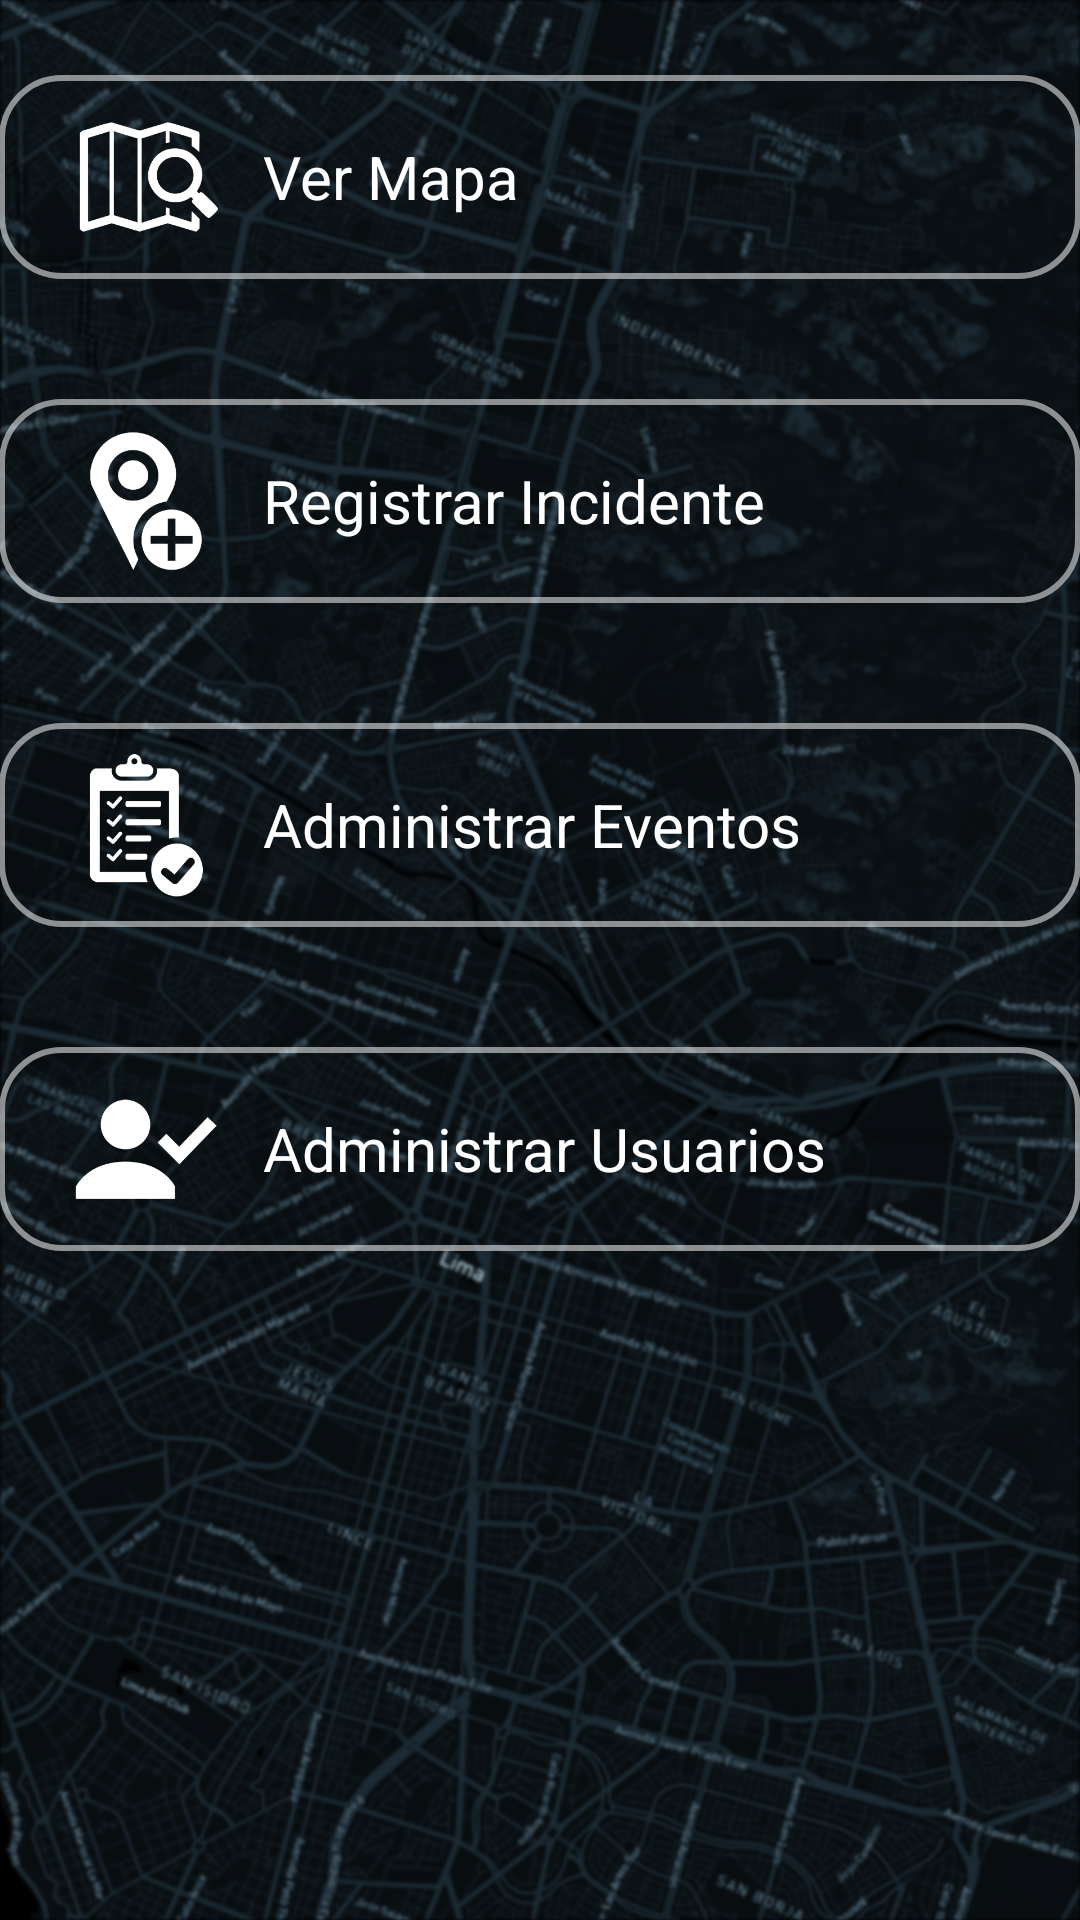

Point at icon controls on the screen. Image size 1080 x 1920, points as point (x, y).
add event: point (146, 499)
manage events: point (147, 825)
manage users: point (145, 1149)
view map: point (146, 177)
